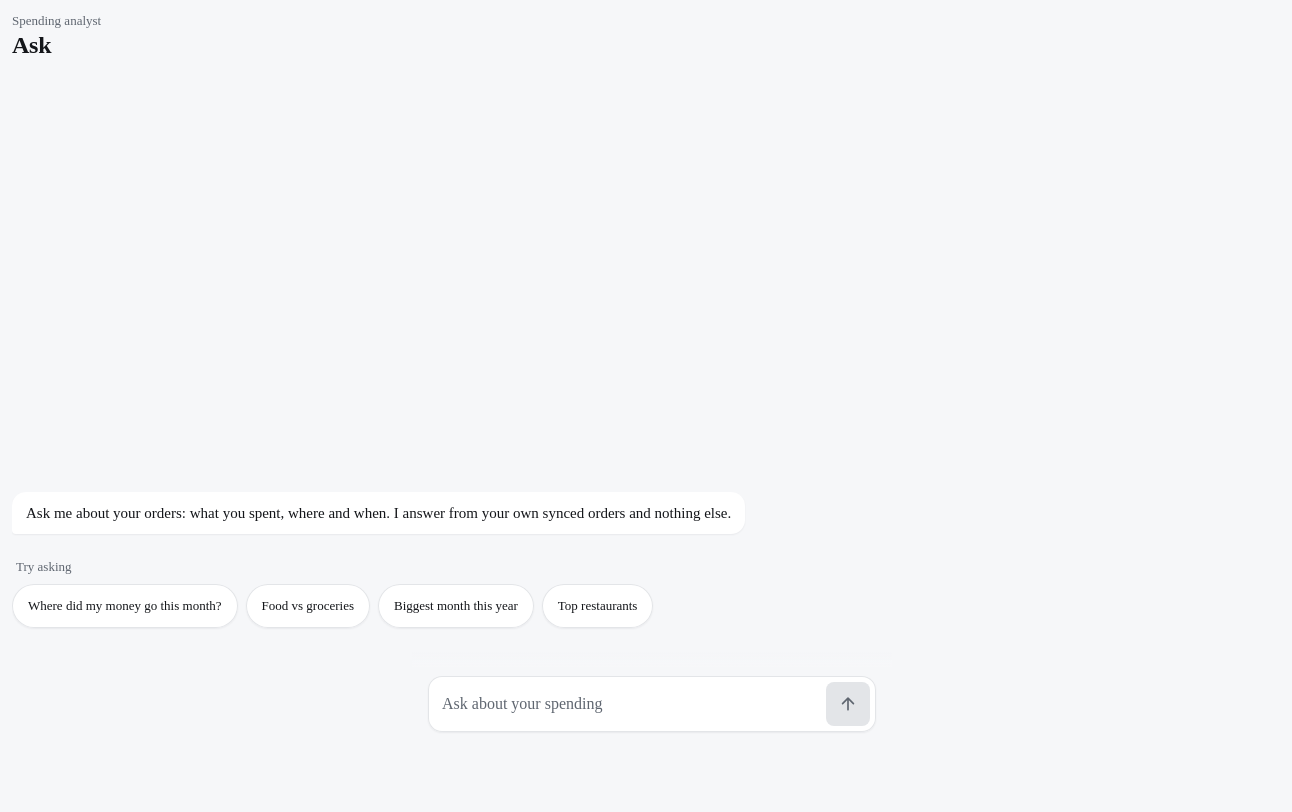
AskChat › says it is still working after 8 seconds
Click the button "Top restaurants" at (598, 606), box 542,584 -> 653,628
Wait 8000 ms
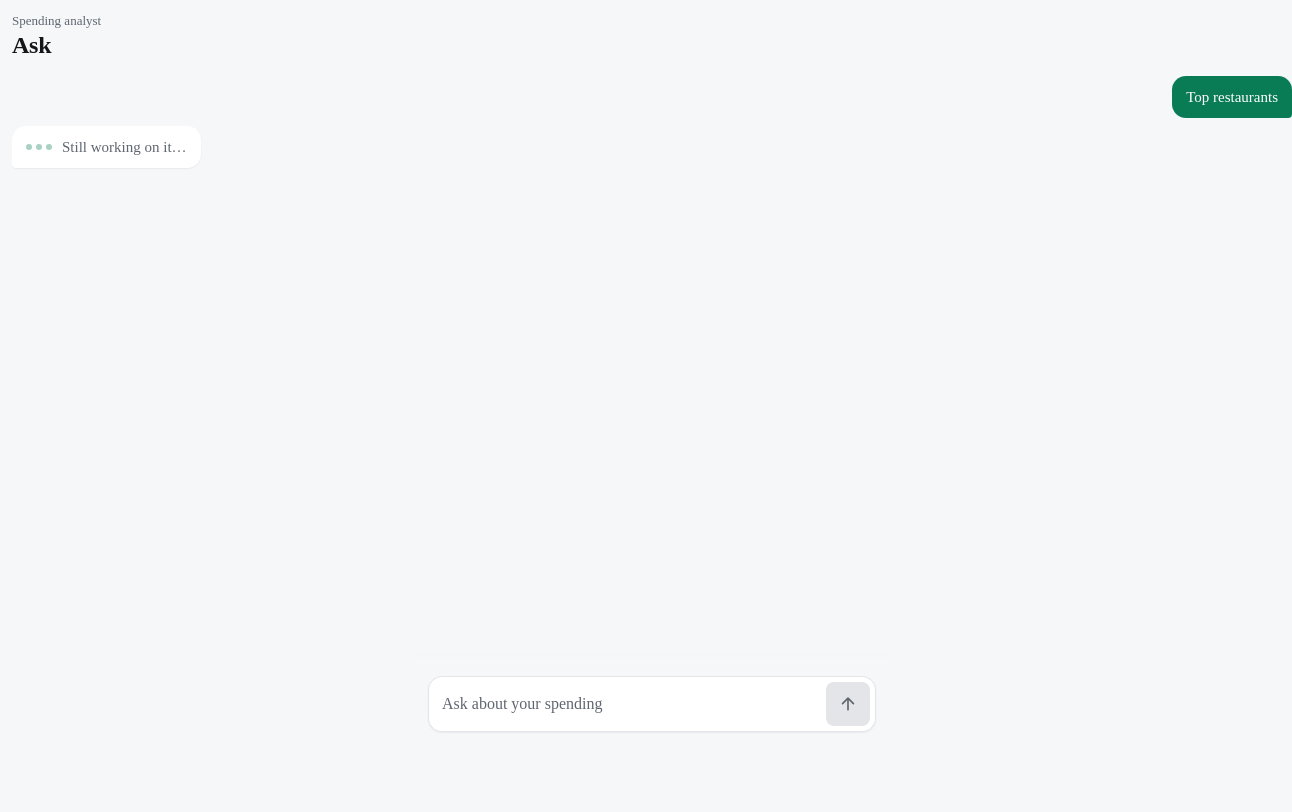
Expected: the text "Still working on it…" is shown, 62,136 -> 187,158
